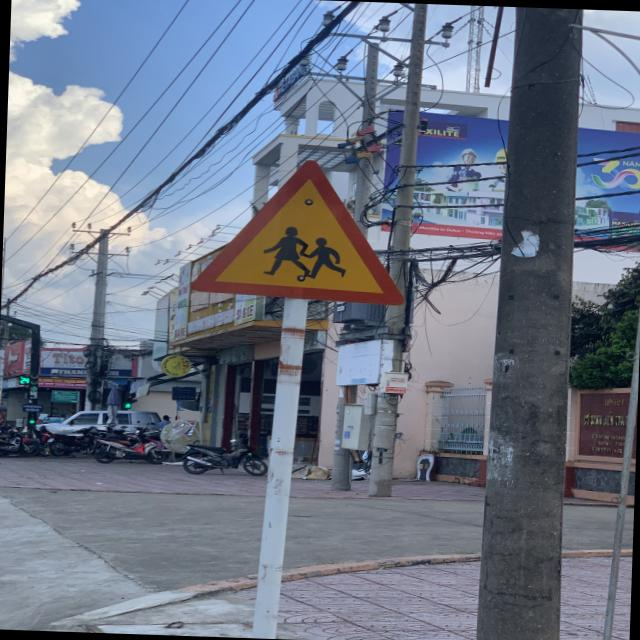Vong_Xuyen: (192, 155, 408, 305)
